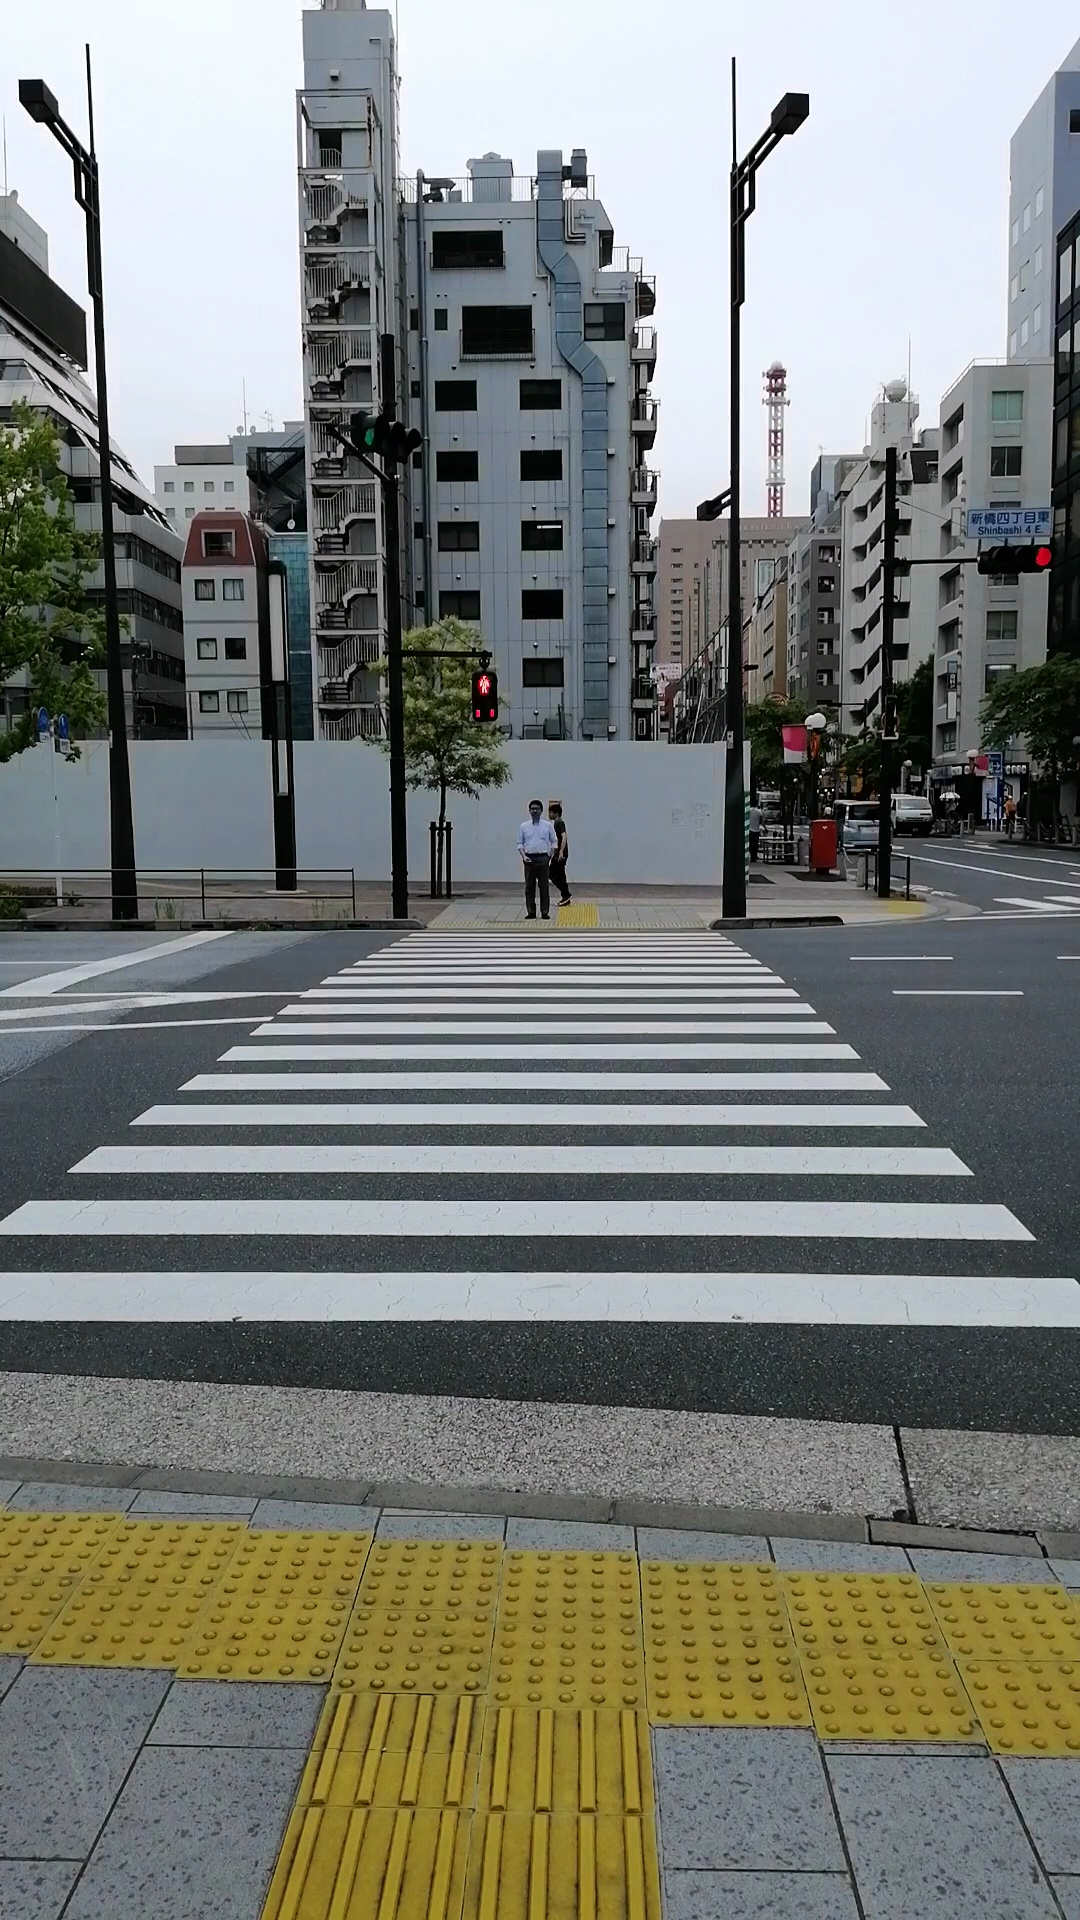red: (469, 670, 497, 721)
